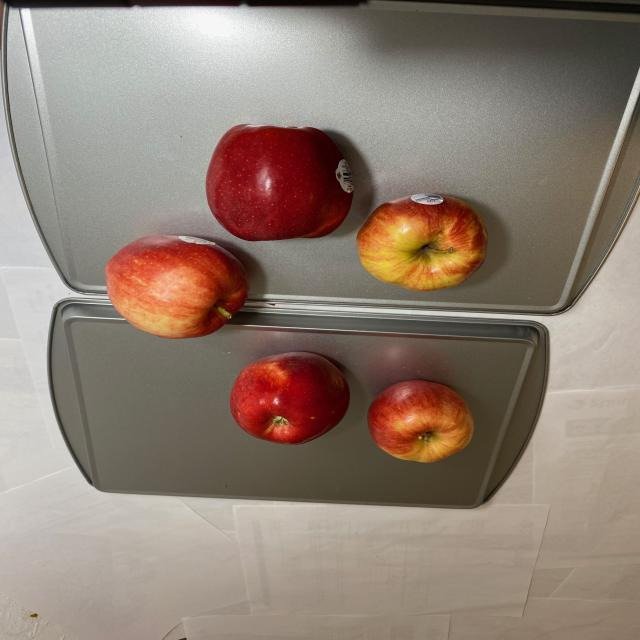apple: (100, 122, 488, 338), (225, 352, 476, 465)
